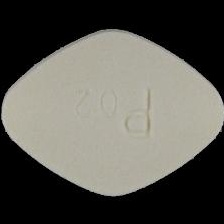54868-5282: (0, 0, 224, 224)
